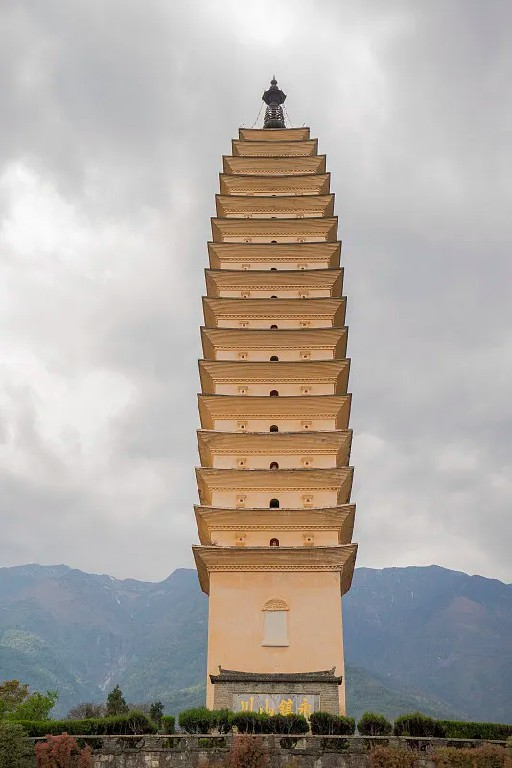ThreePagoda: (192, 74, 359, 714)
